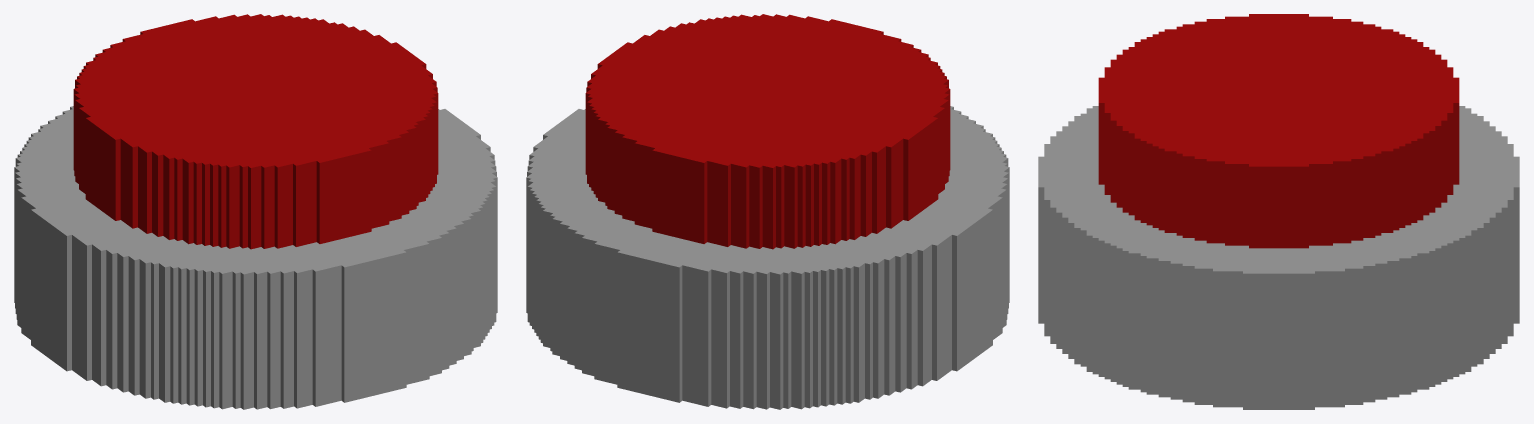
File: sm_trap_button.glb
3 views of the same model, side by side, from view 1: azimuth 30°, elevation 25°; view 2: azimuth 150°, elevation 25°; view 3: azimuth 270°, elevation 25° (orthographic).
Visible parts, largest first — view 1: TrapButtonFoundation, TrapButton; view 2: TrapButtonFoundation, TrapButton; view 3: TrapButtonFoundation, TrapButton.
Boxes of the visible parts, bbox=[...] form: TrapButtonFoundation: bbox=[14, 106, 497, 409]; TrapButton: bbox=[73, 14, 438, 249]; TrapButtonFoundation: bbox=[526, 106, 1009, 409]; TrapButton: bbox=[585, 14, 950, 249]; TrapButtonFoundation: bbox=[1038, 106, 1519, 409]; TrapButton: bbox=[1098, 14, 1459, 248].
Bounding box in the file's own units: 80 × 40 × 80.
Materials: 2 (2 with a texture image).
